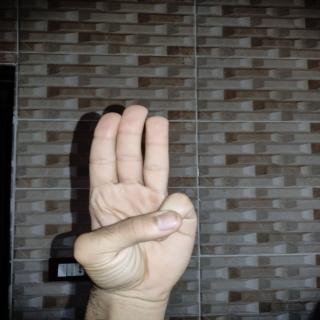THA: (61, 98, 208, 307)
